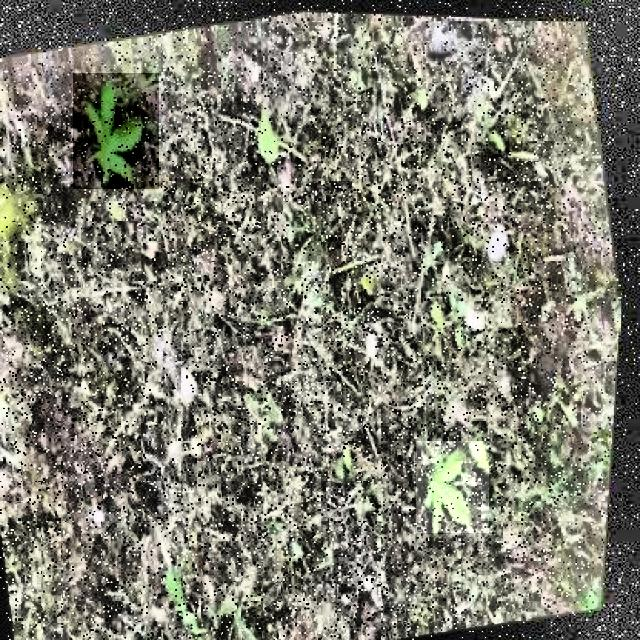Weeds: (73, 73, 159, 189), (416, 441, 489, 533)
